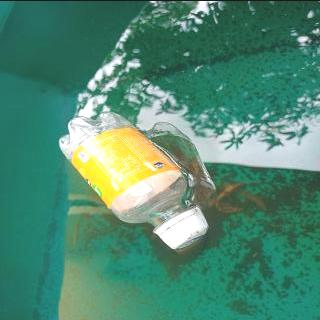bottle: (55, 108, 212, 250)
